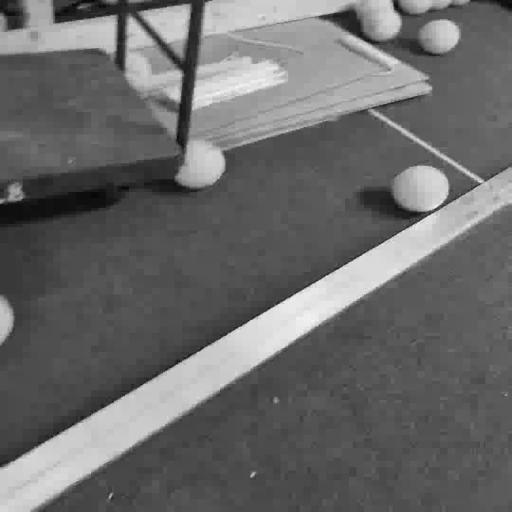fuel: (391, 166, 449, 212), (174, 140, 225, 190), (417, 19, 460, 54), (361, 9, 401, 42), (125, 51, 152, 90), (356, 0, 393, 20), (397, 0, 432, 14), (431, 0, 451, 10), (450, 0, 470, 6)
